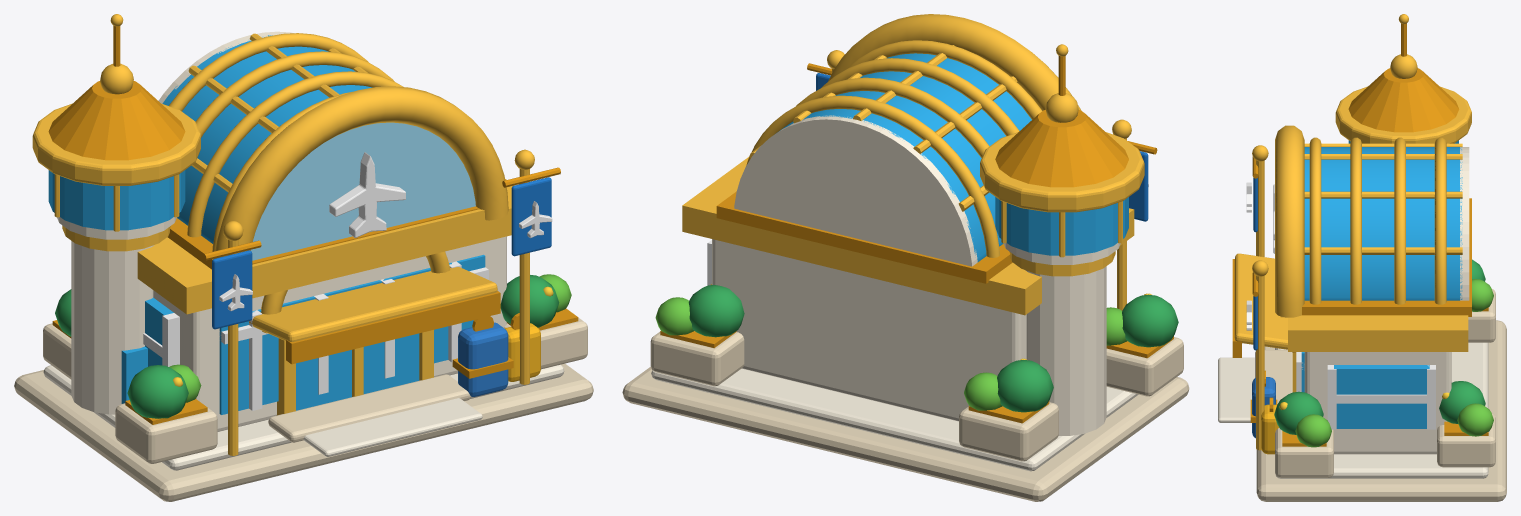
File: airport-terminal.glb
The picture shows the model from 3 angles, left to right: view 1: azimuth 30°, elevation 25°; view 2: azimuth 150°, elevation 25°; view 3: azimuth 270°, elevation 25°; orthographic projection. The views are drawn at different scales.
Parts seen in each view (by area): view 1: RA_Airport; view 2: RA_Airport; view 3: RA_Airport.
Part boxes in pixels (box(x1,y1,x2,y2)): RA_Airport: box(14, 14, 593, 501); RA_Airport: box(622, 14, 1189, 501); RA_Airport: box(1218, 14, 1506, 501).
Bounding box in the file's own units: 2.37 × 2.02 × 1.57.
